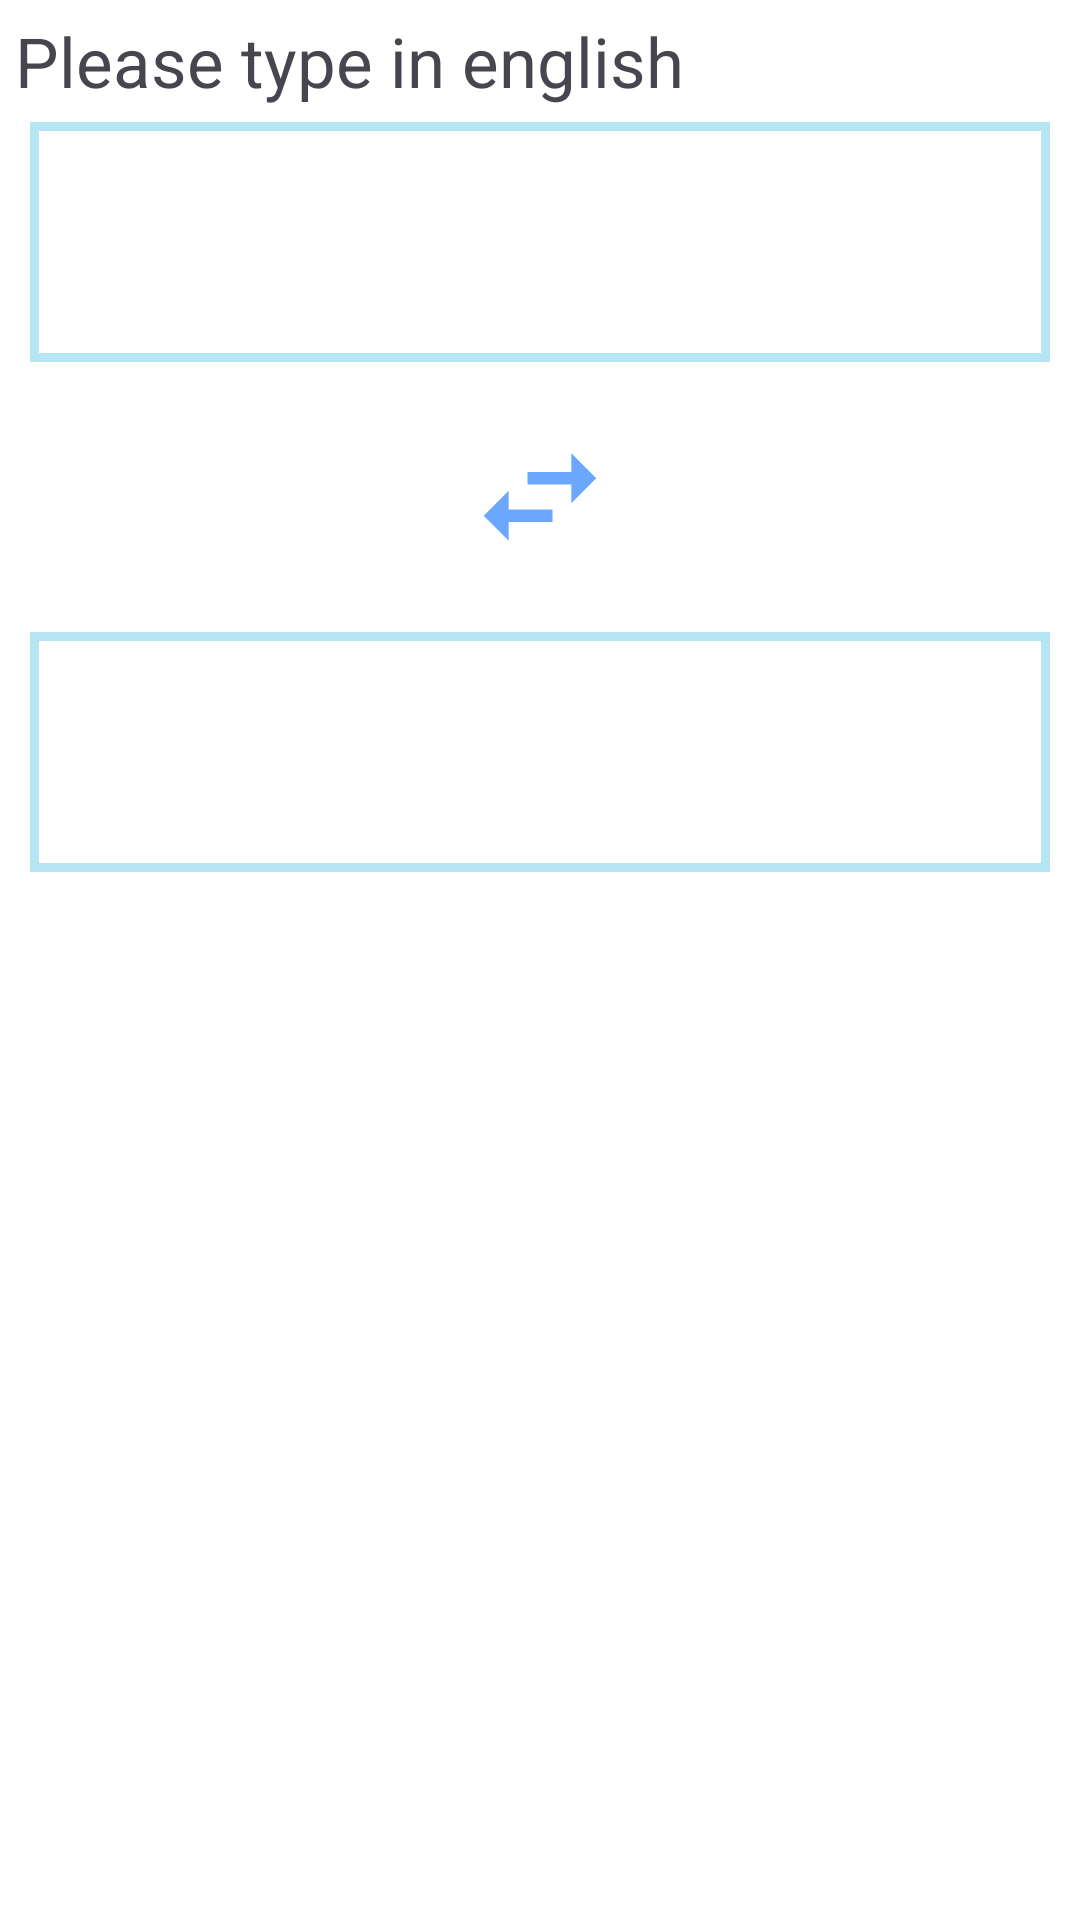

Locate icon controls on the screen. Image size 1080px x 1920px, boxes as (x1, y1, x2, y2).
swap horiz: (484, 453, 596, 541)
